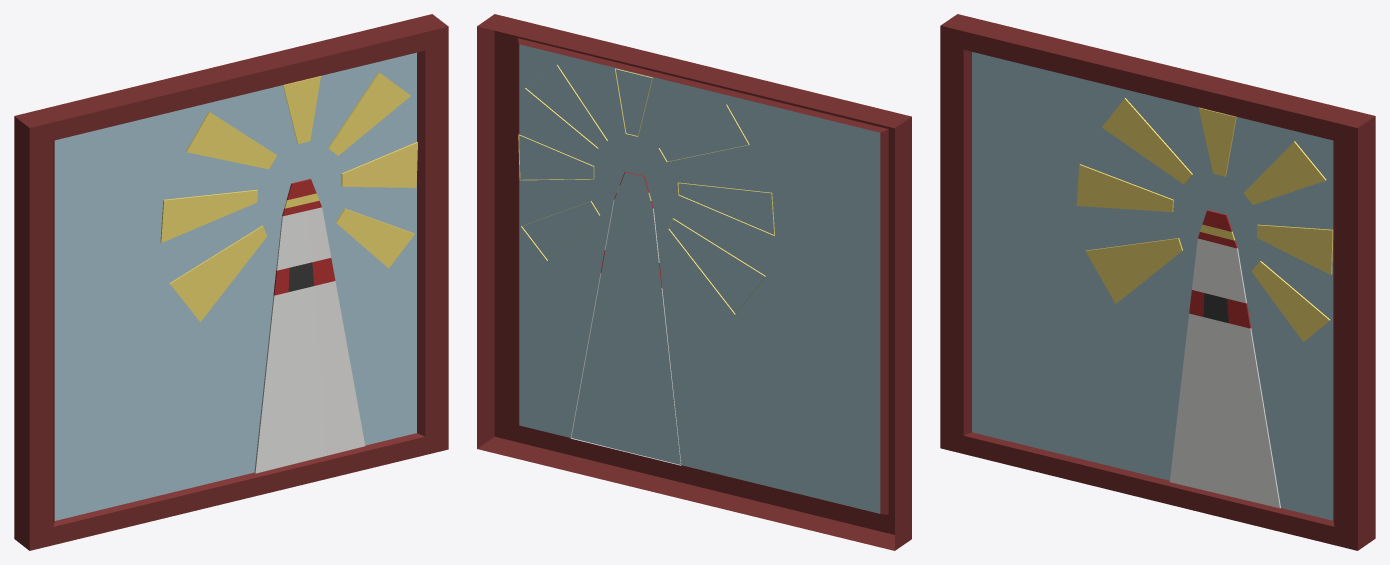
The model's file is Picture_19.fbx.
The picture shows the model from 3 angles, left to right: view 1: azimuth 30°, elevation 25°; view 2: azimuth 150°, elevation 25°; view 3: azimuth 330°, elevation 25°; orthographic projection.
Visible parts, largest first — view 1: Picture_19; view 2: Picture_19; view 3: Picture_19.
Part boxes in pixels (x1=…): Picture_19: x1=14, y1=14, x2=448, y2=550; Picture_19: x1=477, y1=14, x2=911, y2=550; Picture_19: x1=940, y1=14, x2=1375, y2=550.
Size of the model in its own units: 68.4 by 4.83 by 65.99.
